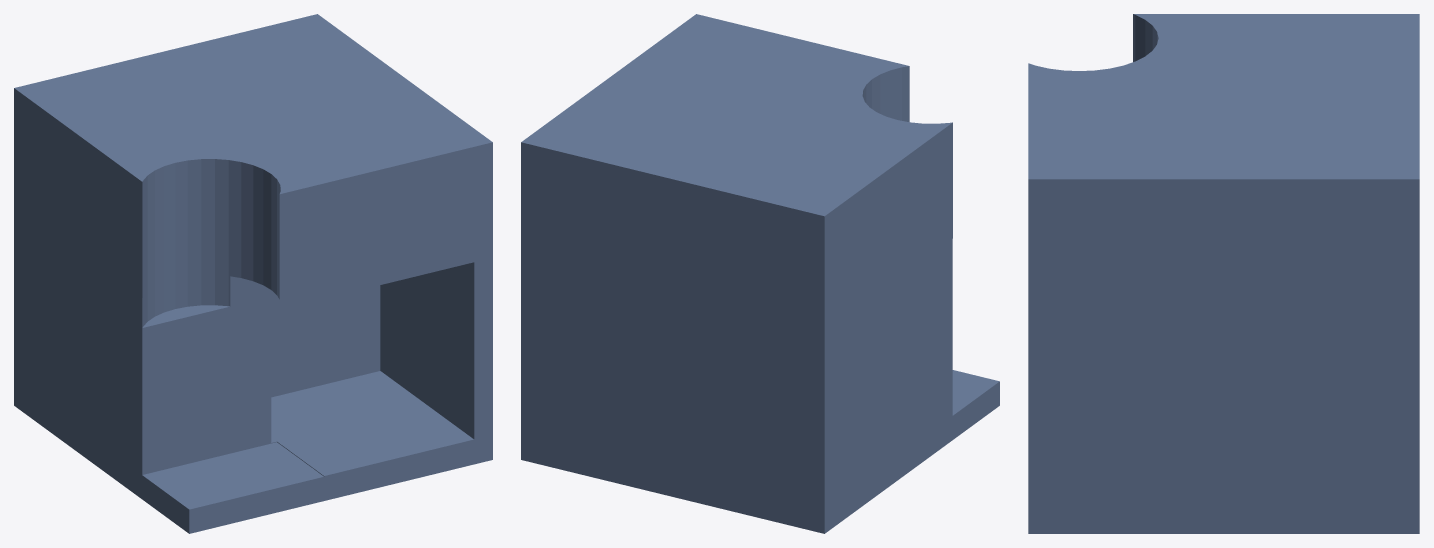
The model's file is MachineModel.obj.
3 views of the same model, side by side, from view 1: azimuth 30°, elevation 25°; view 2: azimuth 150°, elevation 25°; view 3: azimuth 270°, elevation 25° (orthographic). The views are drawn at different scales.
Parts seen in each view (by area): view 1: Aparat_za_sladoled; view 2: Aparat_za_sladoled; view 3: Aparat_za_sladoled.
Boxes of the visible parts, x1,y1,x2,y2 form: Aparat_za_sladoled: (14,14,492,533); Aparat_za_sladoled: (521,14,999,533); Aparat_za_sladoled: (1028,14,1419,533).
Bounding box in the file's own units: 2 × 2 × 2.
2 materials, 2 textured.
